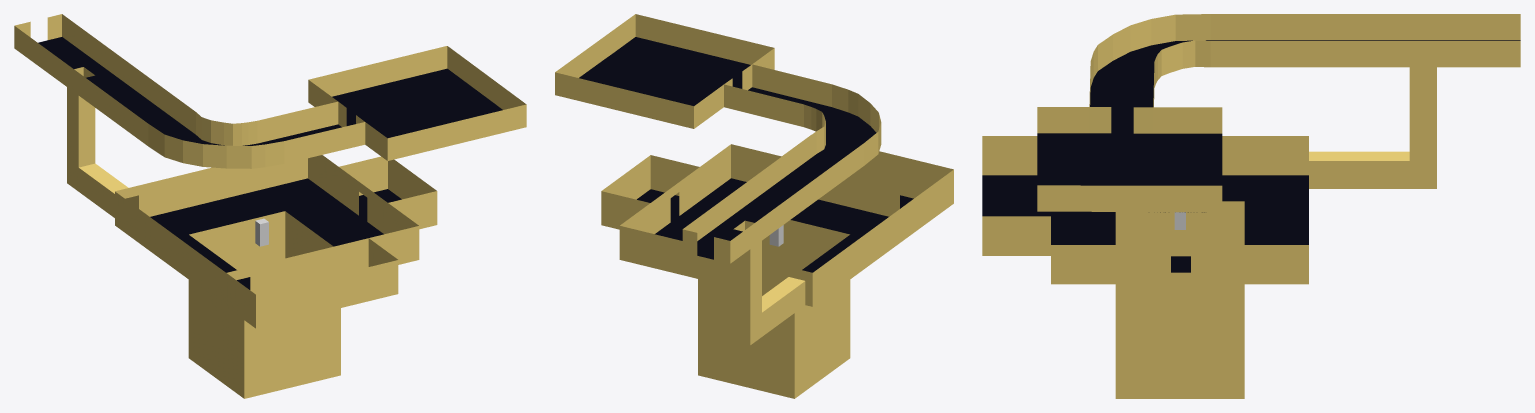
The model's file is Level_1_test.glb.
The picture shows the model from 3 angles, left to right: view 1: azimuth 30°, elevation 25°; view 2: azimuth 150°, elevation 25°; view 3: azimuth 270°, elevation 25°; orthographic projection. The views are drawn at different scales.
Visible parts, largest first — view 1: Plane; view 2: Plane; view 3: Plane.
Boxes of the visible parts, box(x1,y1,x2,y2) form: Plane: box(14, 14, 526, 398); Plane: box(555, 14, 953, 398); Plane: box(982, 14, 1520, 398).
Size of the model in its own units: 28.32 by 23.02 by 37.51.
